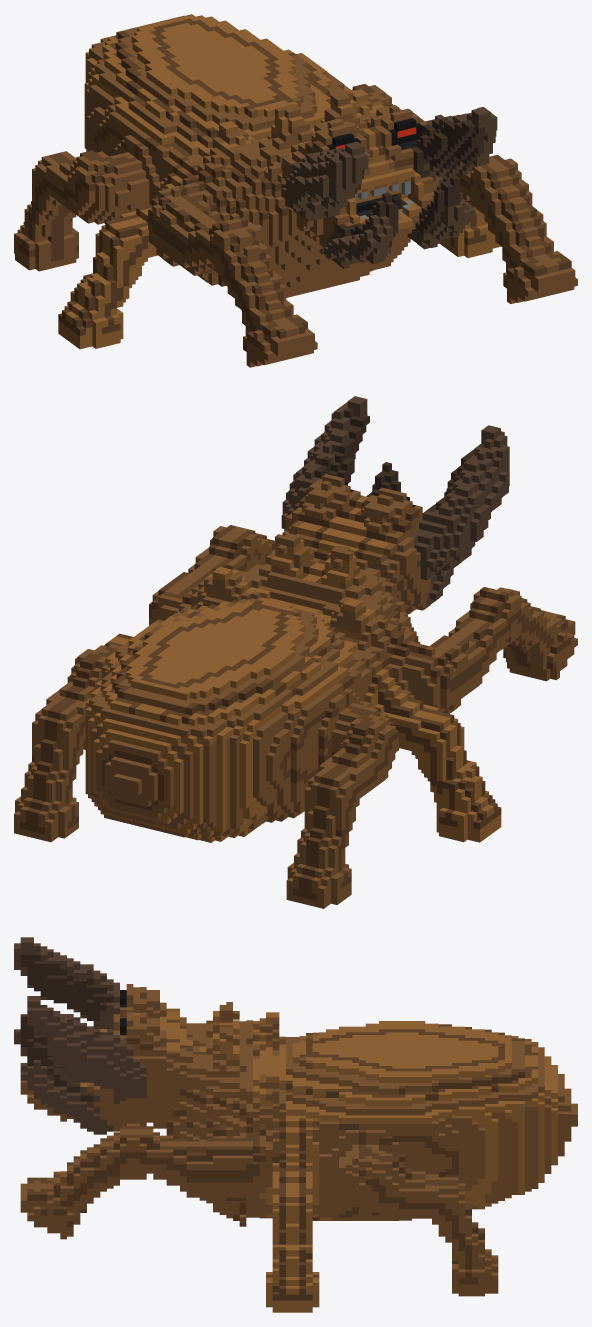
File: beetle_attack_v1.0-1.obj
3 views of the same model, one above another, from view 1: azimuth 30°, elevation 25°; view 2: azimuth 150°, elevation 25°; view 3: azimuth 270°, elevation 25° (orthographic). The views are drawn at different scales.
Visible parts, largest first — view 1: beetle_attack_v1; view 2: beetle_attack_v1; view 3: beetle_attack_v1.
Part boxes in pixels (bbox=[...]): beetle_attack_v1: bbox=[14, 14, 577, 367]; beetle_attack_v1: bbox=[14, 396, 577, 908]; beetle_attack_v1: bbox=[14, 937, 577, 1312].
Size of the model in its own units: 6.8 by 4.2 by 8.5.
1 material, 1 textured.
